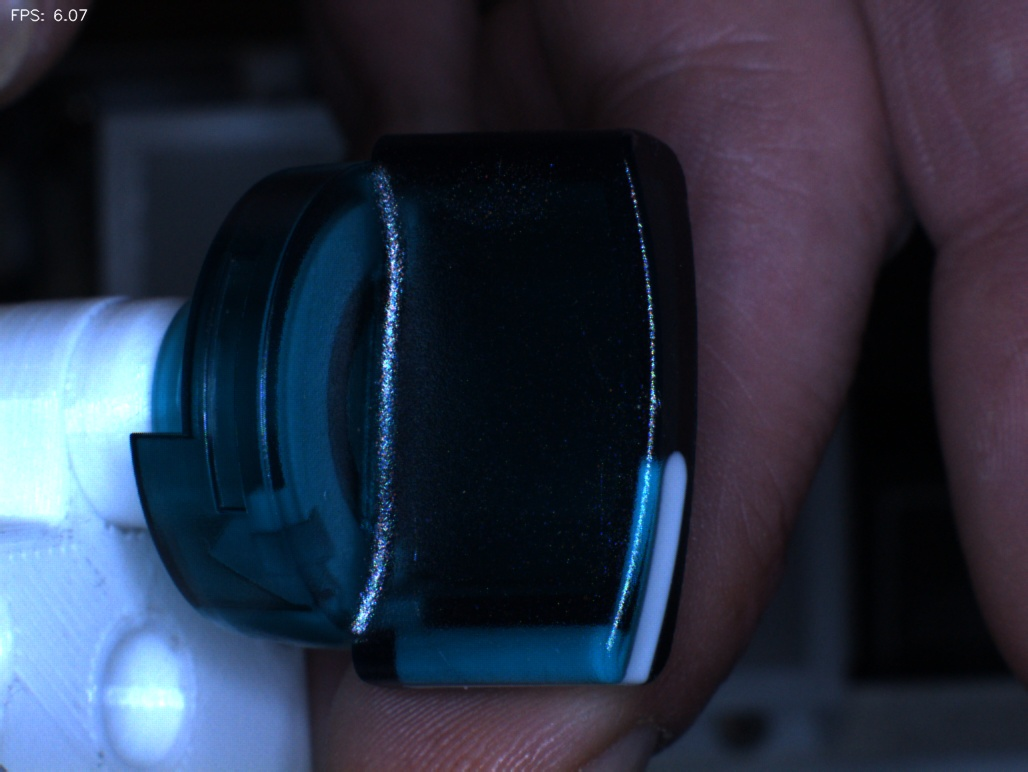Givrage: (554, 293, 632, 413)
